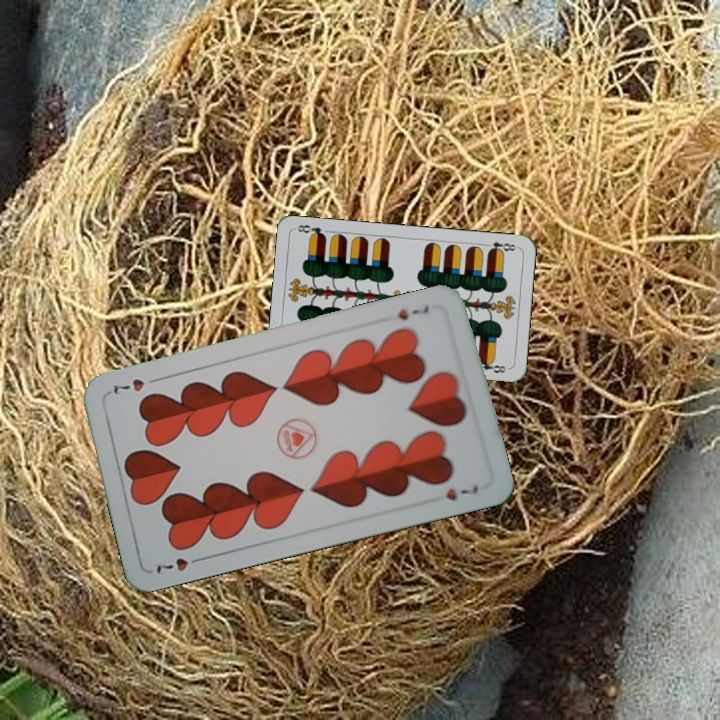E8: (480, 238, 520, 256)
H7: (152, 552, 207, 576), (394, 299, 432, 323)
